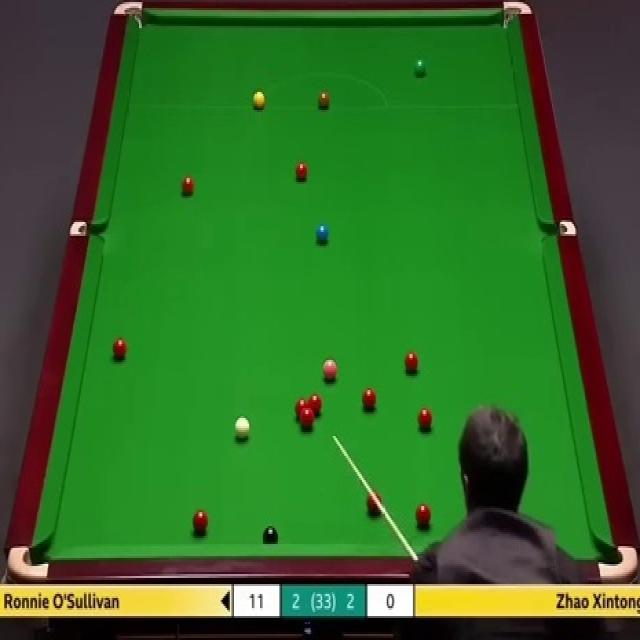pocket: (598, 543, 638, 582), (6, 545, 50, 577), (111, 0, 142, 31), (502, 0, 532, 31), (68, 220, 107, 237), (541, 220, 575, 237)
